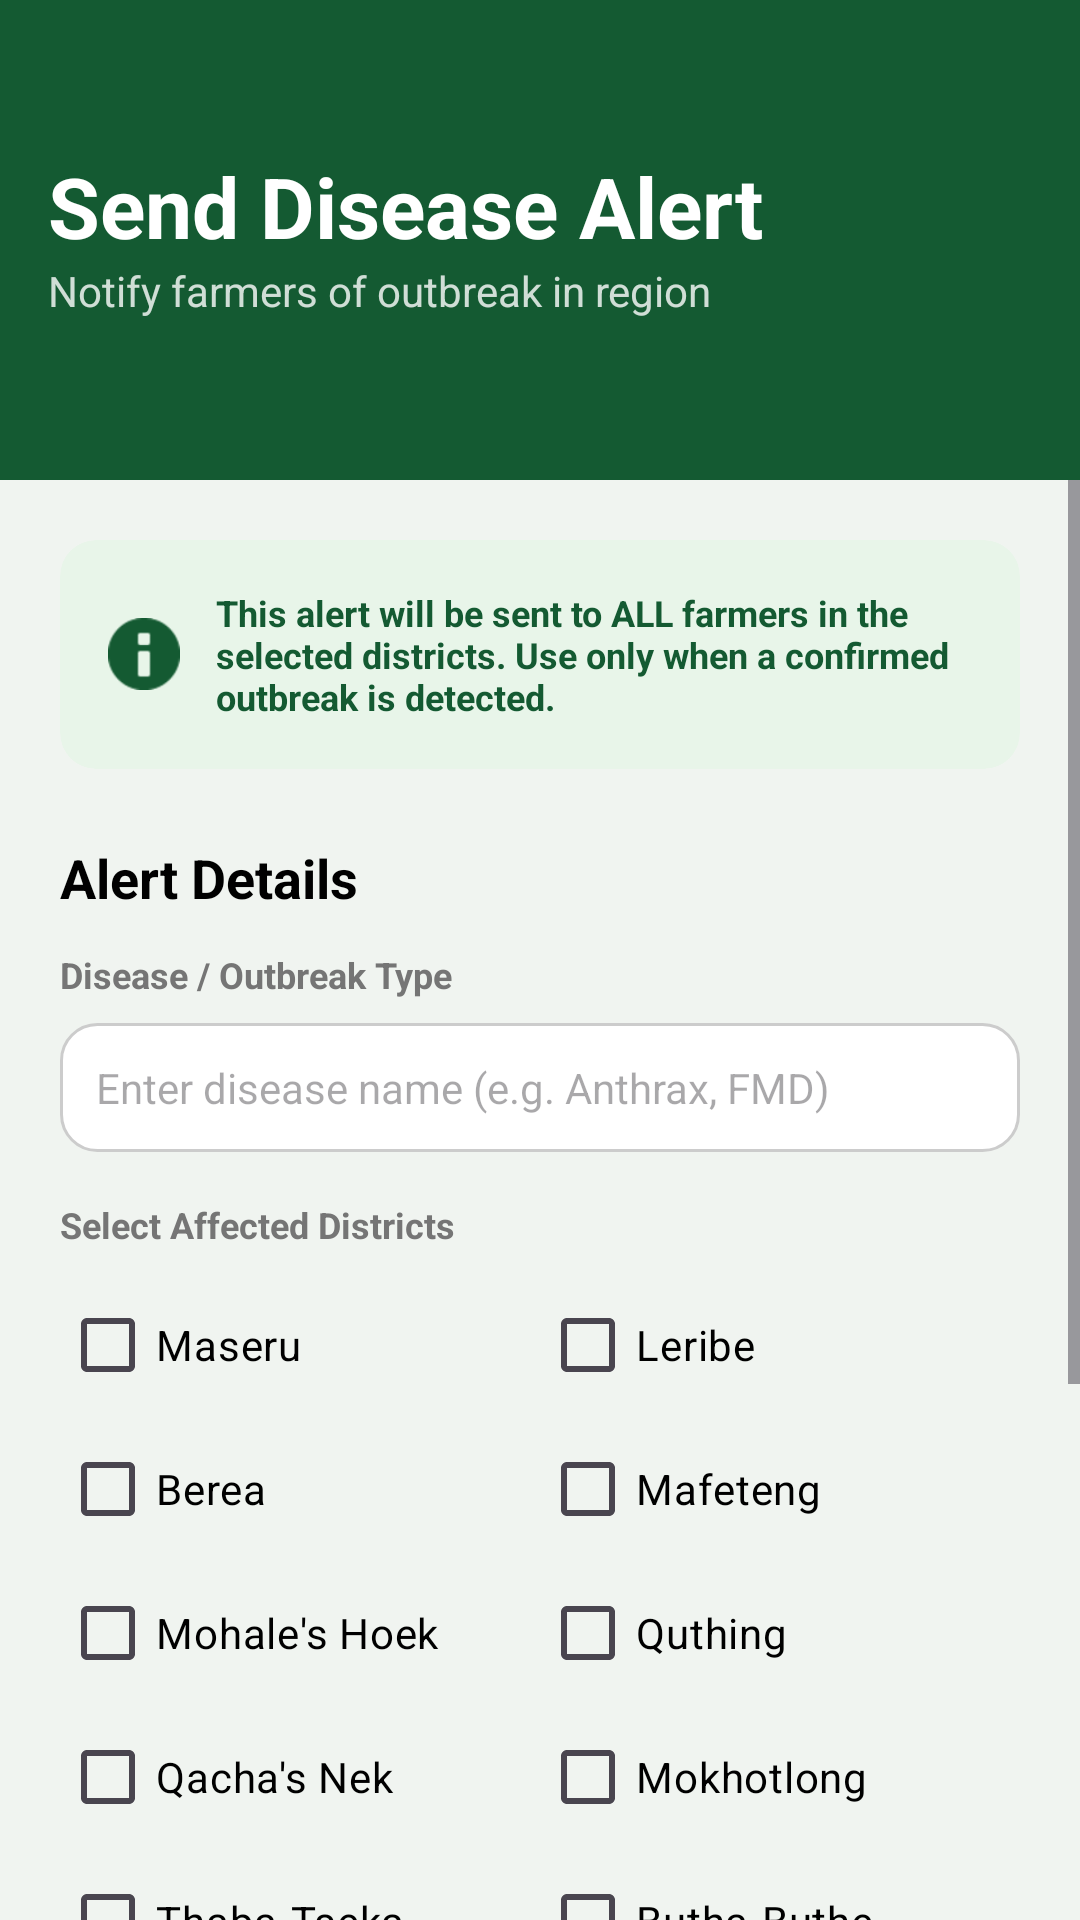

Named icons in this screenshot (1080 x 1920) and their bounding boxes, (x1, y1, x2, y2):
info: (108, 618, 180, 690)
